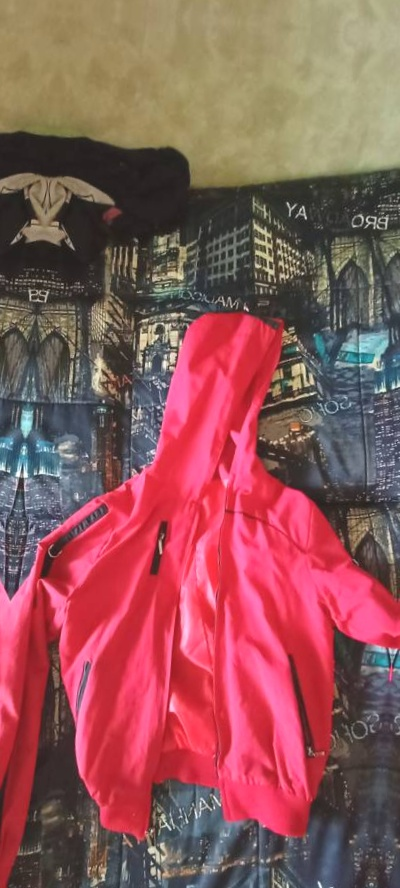Hoodie: (0, 244, 400, 888), (0, 209, 43, 888), (370, 280, 400, 888)
